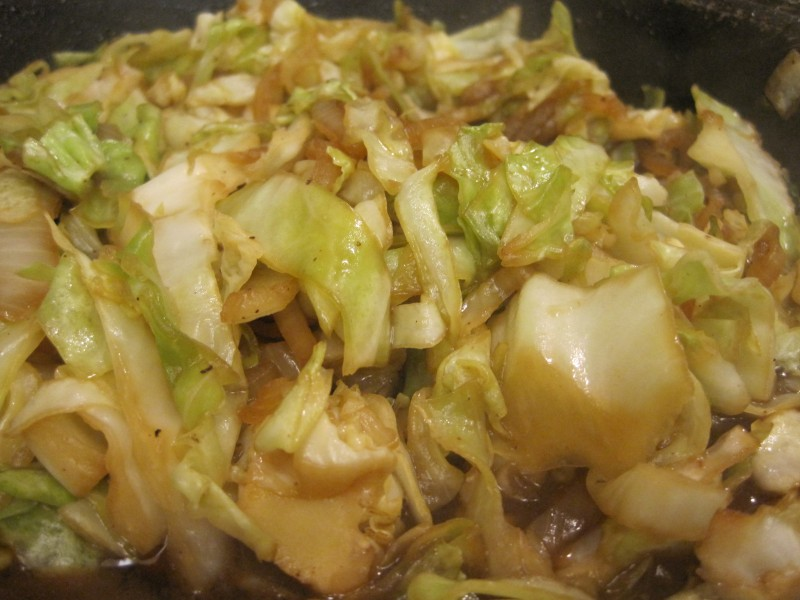chinese_cabbage: (44, 40, 754, 533), (281, 264, 789, 589), (26, 213, 429, 539), (356, 83, 791, 370), (229, 19, 609, 212), (32, 48, 326, 210)
